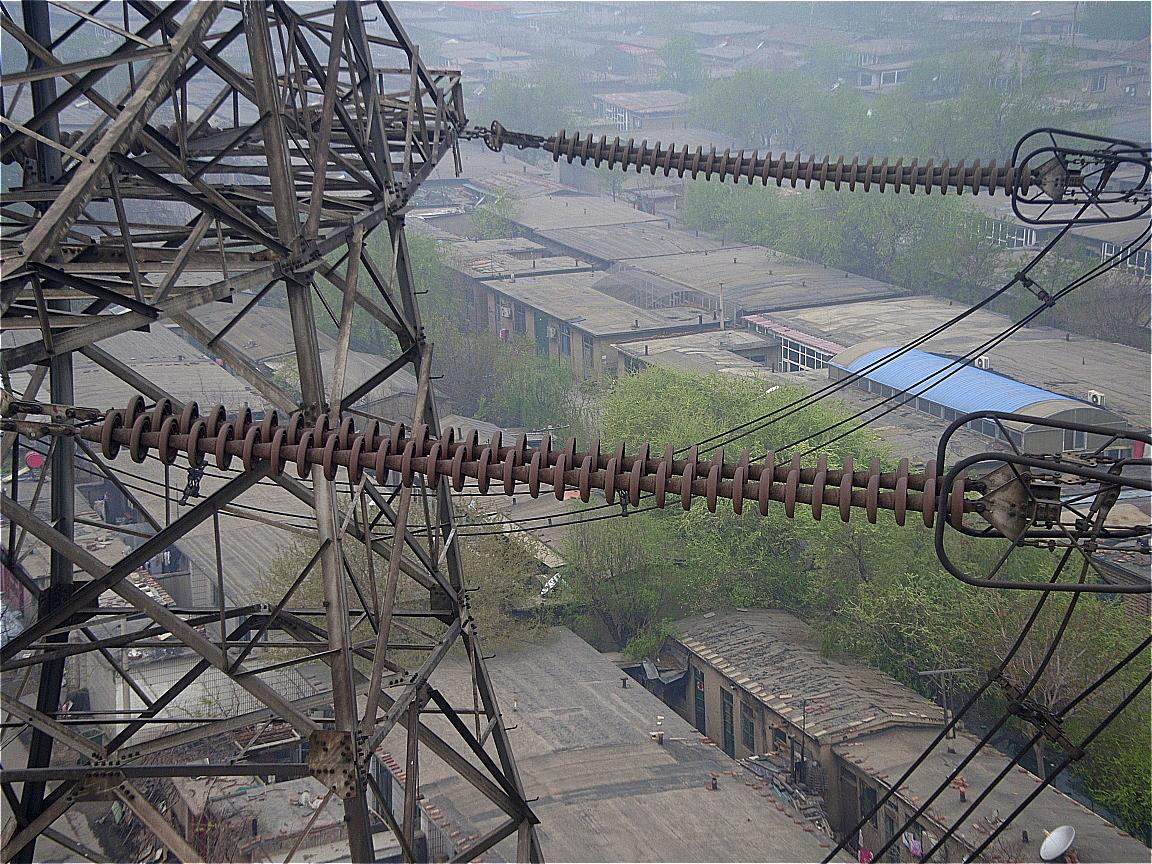insultor1: (48, 373, 990, 543), (536, 114, 1048, 208)
